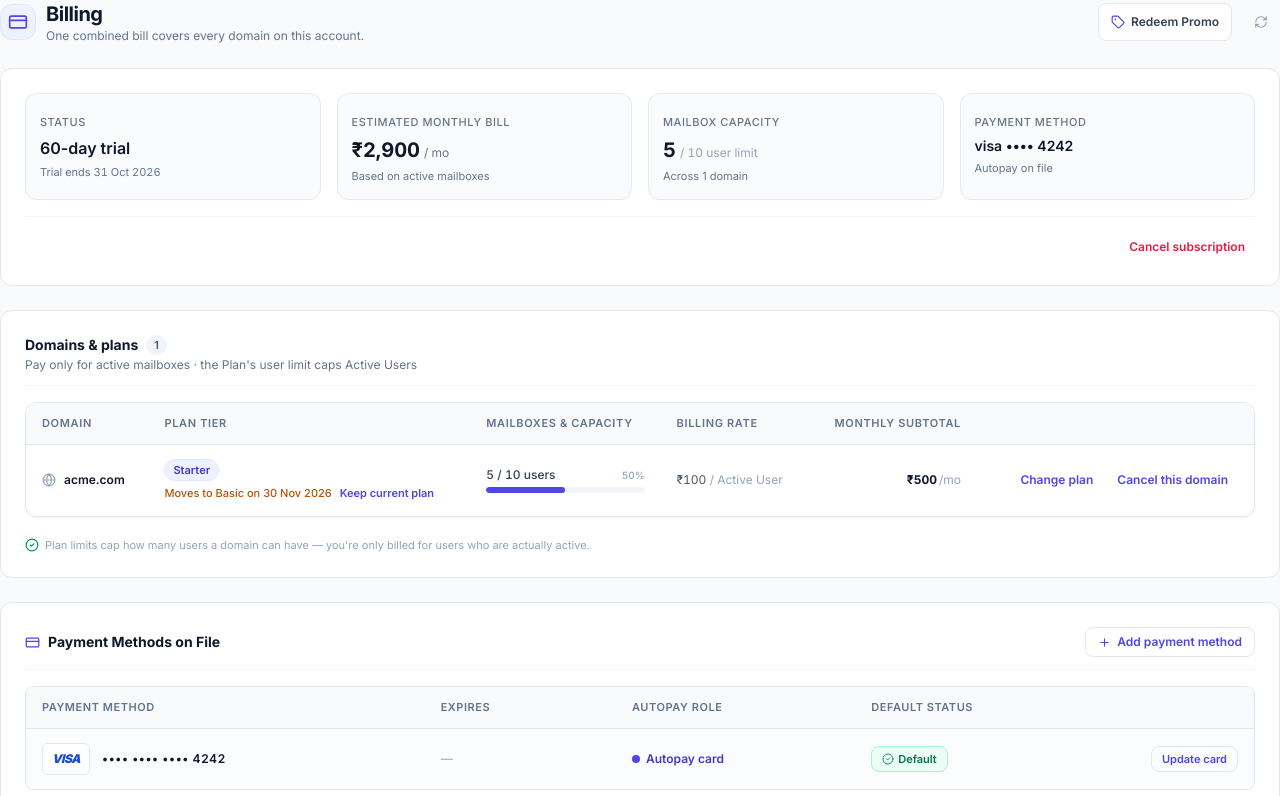
Test case: BillingView: changing a domain's Plan › Keep current plan on the pending badge cancels the downgrade and the badge disappears
Expected: the text "Moves to Basic on 30 Nov 2026" is shown, left=164, top=485, right=454, bottom=502
Click the button "Keep current plan".
click(387, 493)  # box left=340, top=485, right=434, bottom=502
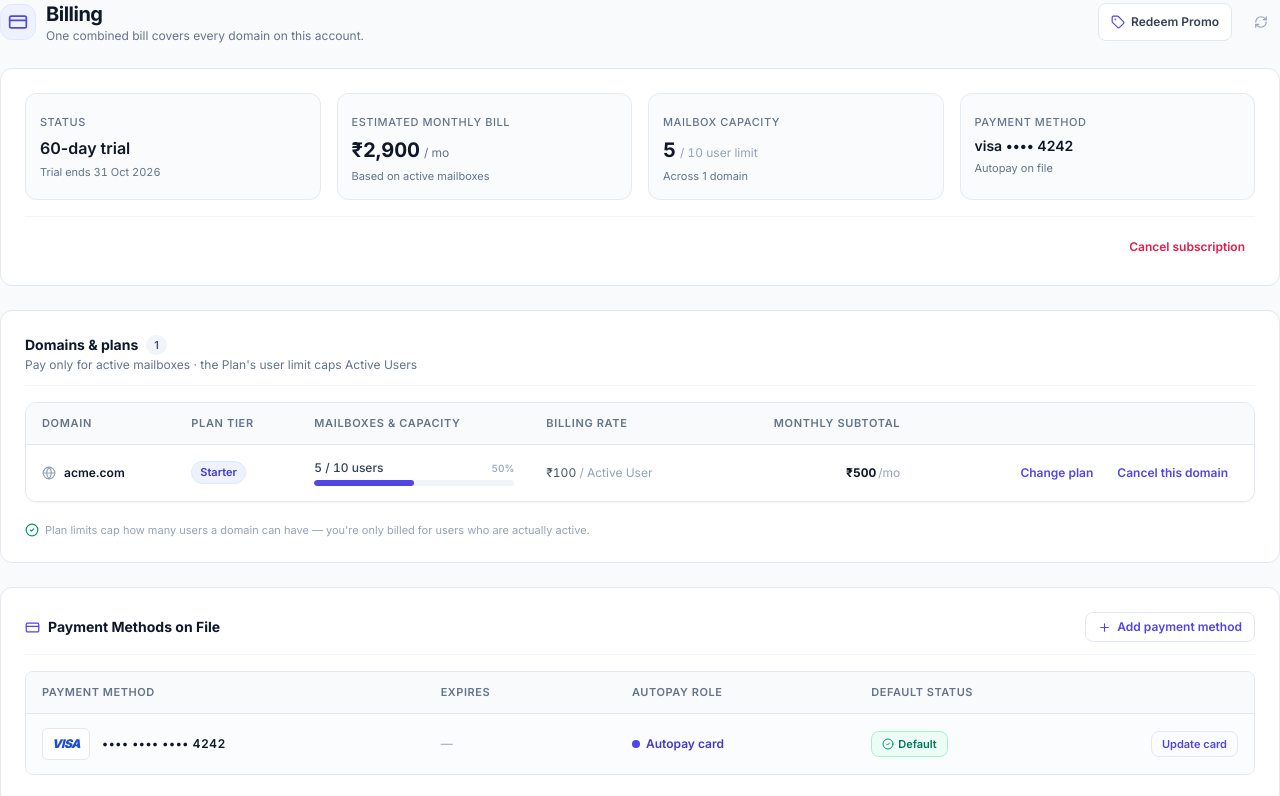
Expected: the text "Starter" is shown, left=191, top=461, right=246, bottom=484
Expected: the text "Moves to" is gone
Expected: the button "Keep current plan" is gone
